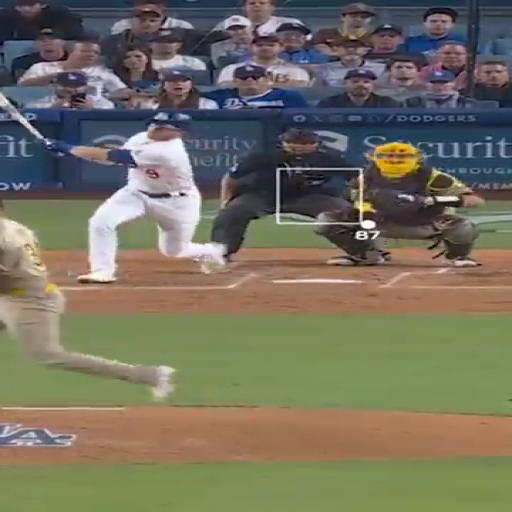bat: (0, 92, 45, 140)
